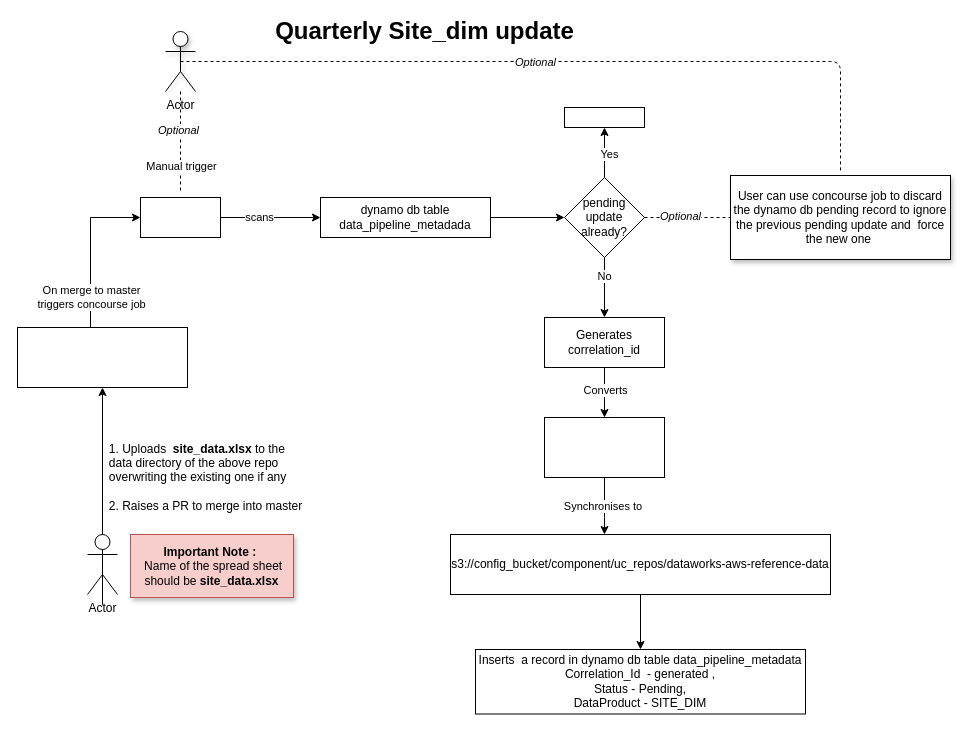
The diagram is 974 pixels wide and 732 high, and some of its shapes have lost their labels. Each missing label, with the centre of its shape:
"[Git Enterprise] dataworks-aws-reference-data" belongs at pixel 102 357.
"Concourse" belongs at pixel 180 217.
"Exit" belongs at pixel 604 117.
"xlsx to csv" belongs at pixel 604 447.
